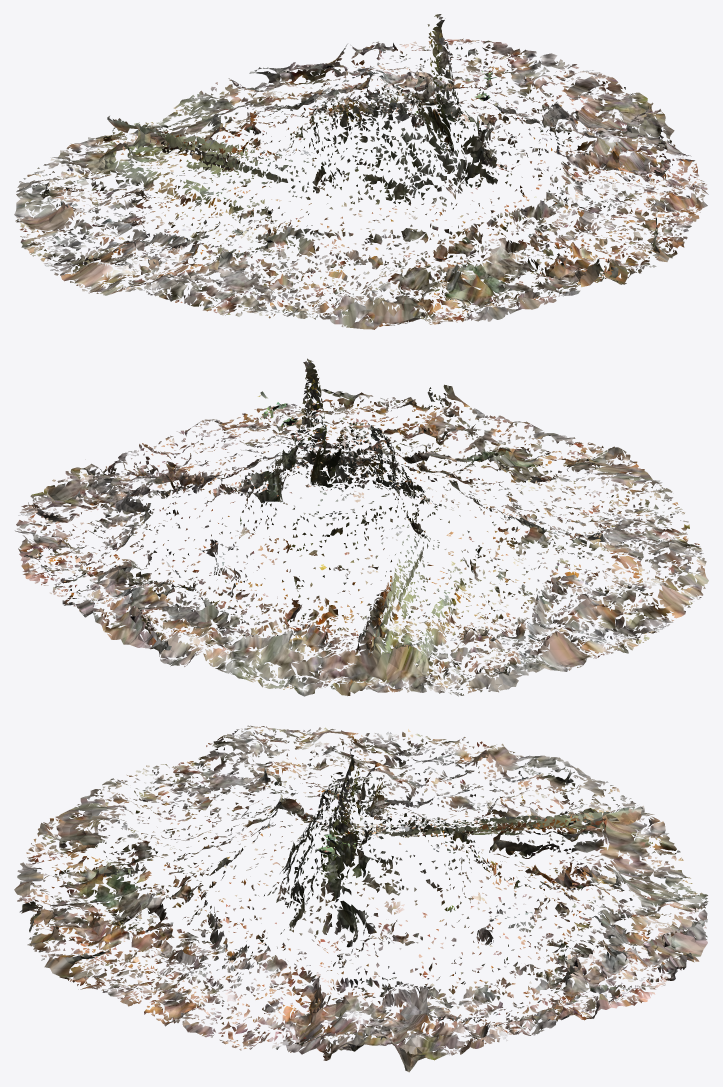
File: arbo_tree_stump_with_autumn_leave.glb
3 views of the same model, one above another, from view 1: azimuth 30°, elevation 25°; view 2: azimuth 150°, elevation 25°; view 3: azimuth 270°, elevation 25° (orthographic). The views are drawn at different scales.
Parts seen in each view (by area): view 1: Object_10; view 2: Object_10; view 3: Object_10.
Part boxes in pixels (left/top/right/bottom): Object_10: left=14, top=14, right=708, bottom=329; Object_10: left=14, top=358, right=708, bottom=696; Object_10: left=14, top=725, right=708, bottom=1072.
Bounding box in the file's own units: 1.2 × 0.3566 × 1.07.
Materials: 3 (3 with a texture image).
